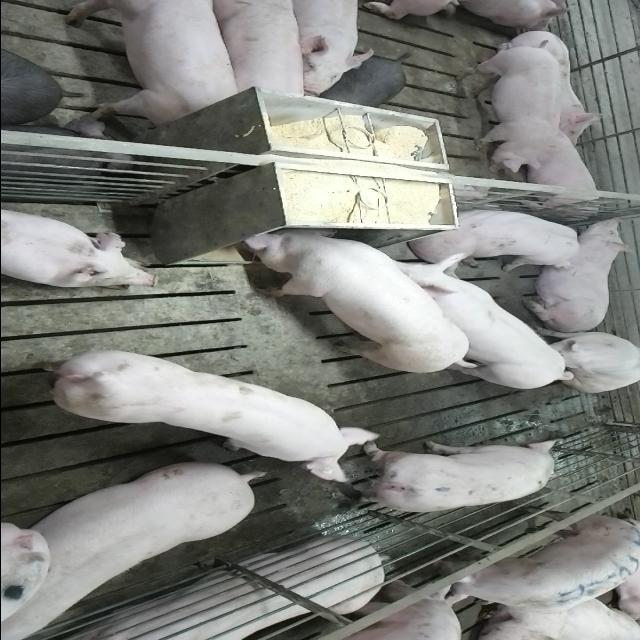Feeding: (235, 218, 471, 370)
Sitting: (529, 329, 639, 393)
Standing: (29, 342, 386, 478), (7, 458, 267, 634), (367, 255, 574, 393), (59, 2, 247, 126), (424, 516, 640, 616), (336, 438, 560, 516), (450, 41, 559, 176), (208, 3, 308, 106), (286, 0, 372, 98)
Sternal_lying: (61, 538, 468, 640), (0, 207, 157, 289), (522, 218, 638, 328), (512, 130, 604, 214)
